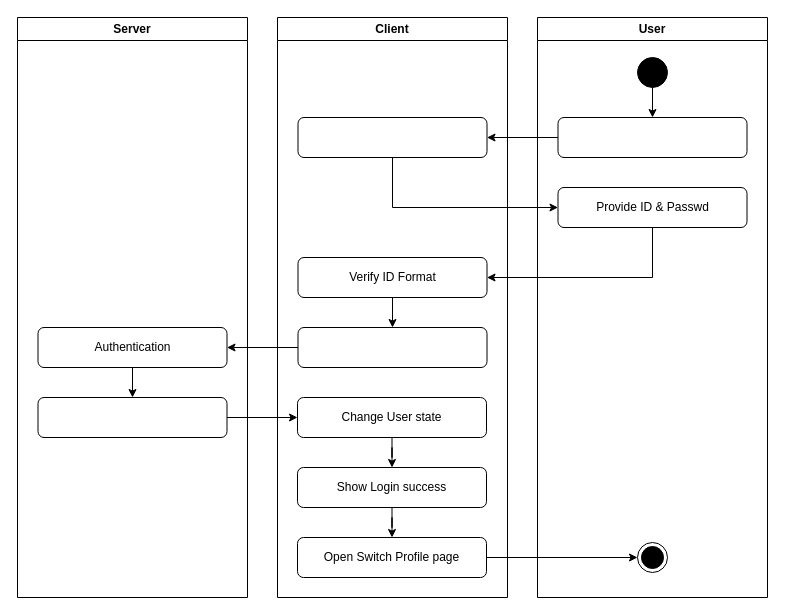
Image size: 785x615. Some labels were removed from this diagram. Each missing label, with the centre of its shape:
"Application Execution" belongs at [652,137].
"Fetch profile list" belongs at [132,417].
"Request ID & Passwd" belongs at [392,137].
"Request Login Approval" belongs at [392,347].
